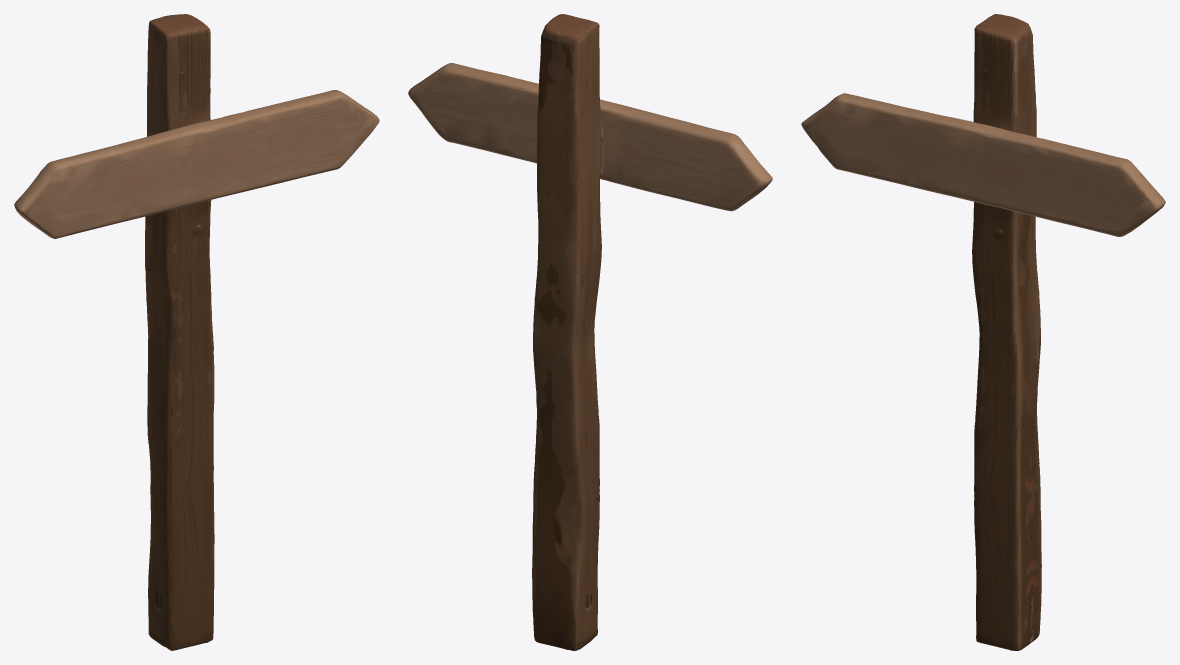
The model's file is SignArrow.glb.
3 views of the same model, side by side, from view 1: azimuth 30°, elevation 25°; view 2: azimuth 150°, elevation 25°; view 3: azimuth 330°, elevation 25° (orthographic).
Visible parts, largest first — view 1: SignArrow; view 2: SignArrow; view 3: SignArrow.
Boxes of the visible parts, <box> form: SignArrow: <box>14,14,379,650</box>; SignArrow: <box>408,14,772,650</box>; SignArrow: <box>801,14,1165,650</box>.
Size of the model in its own units: 1.47 by 2.4 by 0.269.
Materials: 1 (1 with a texture image).
